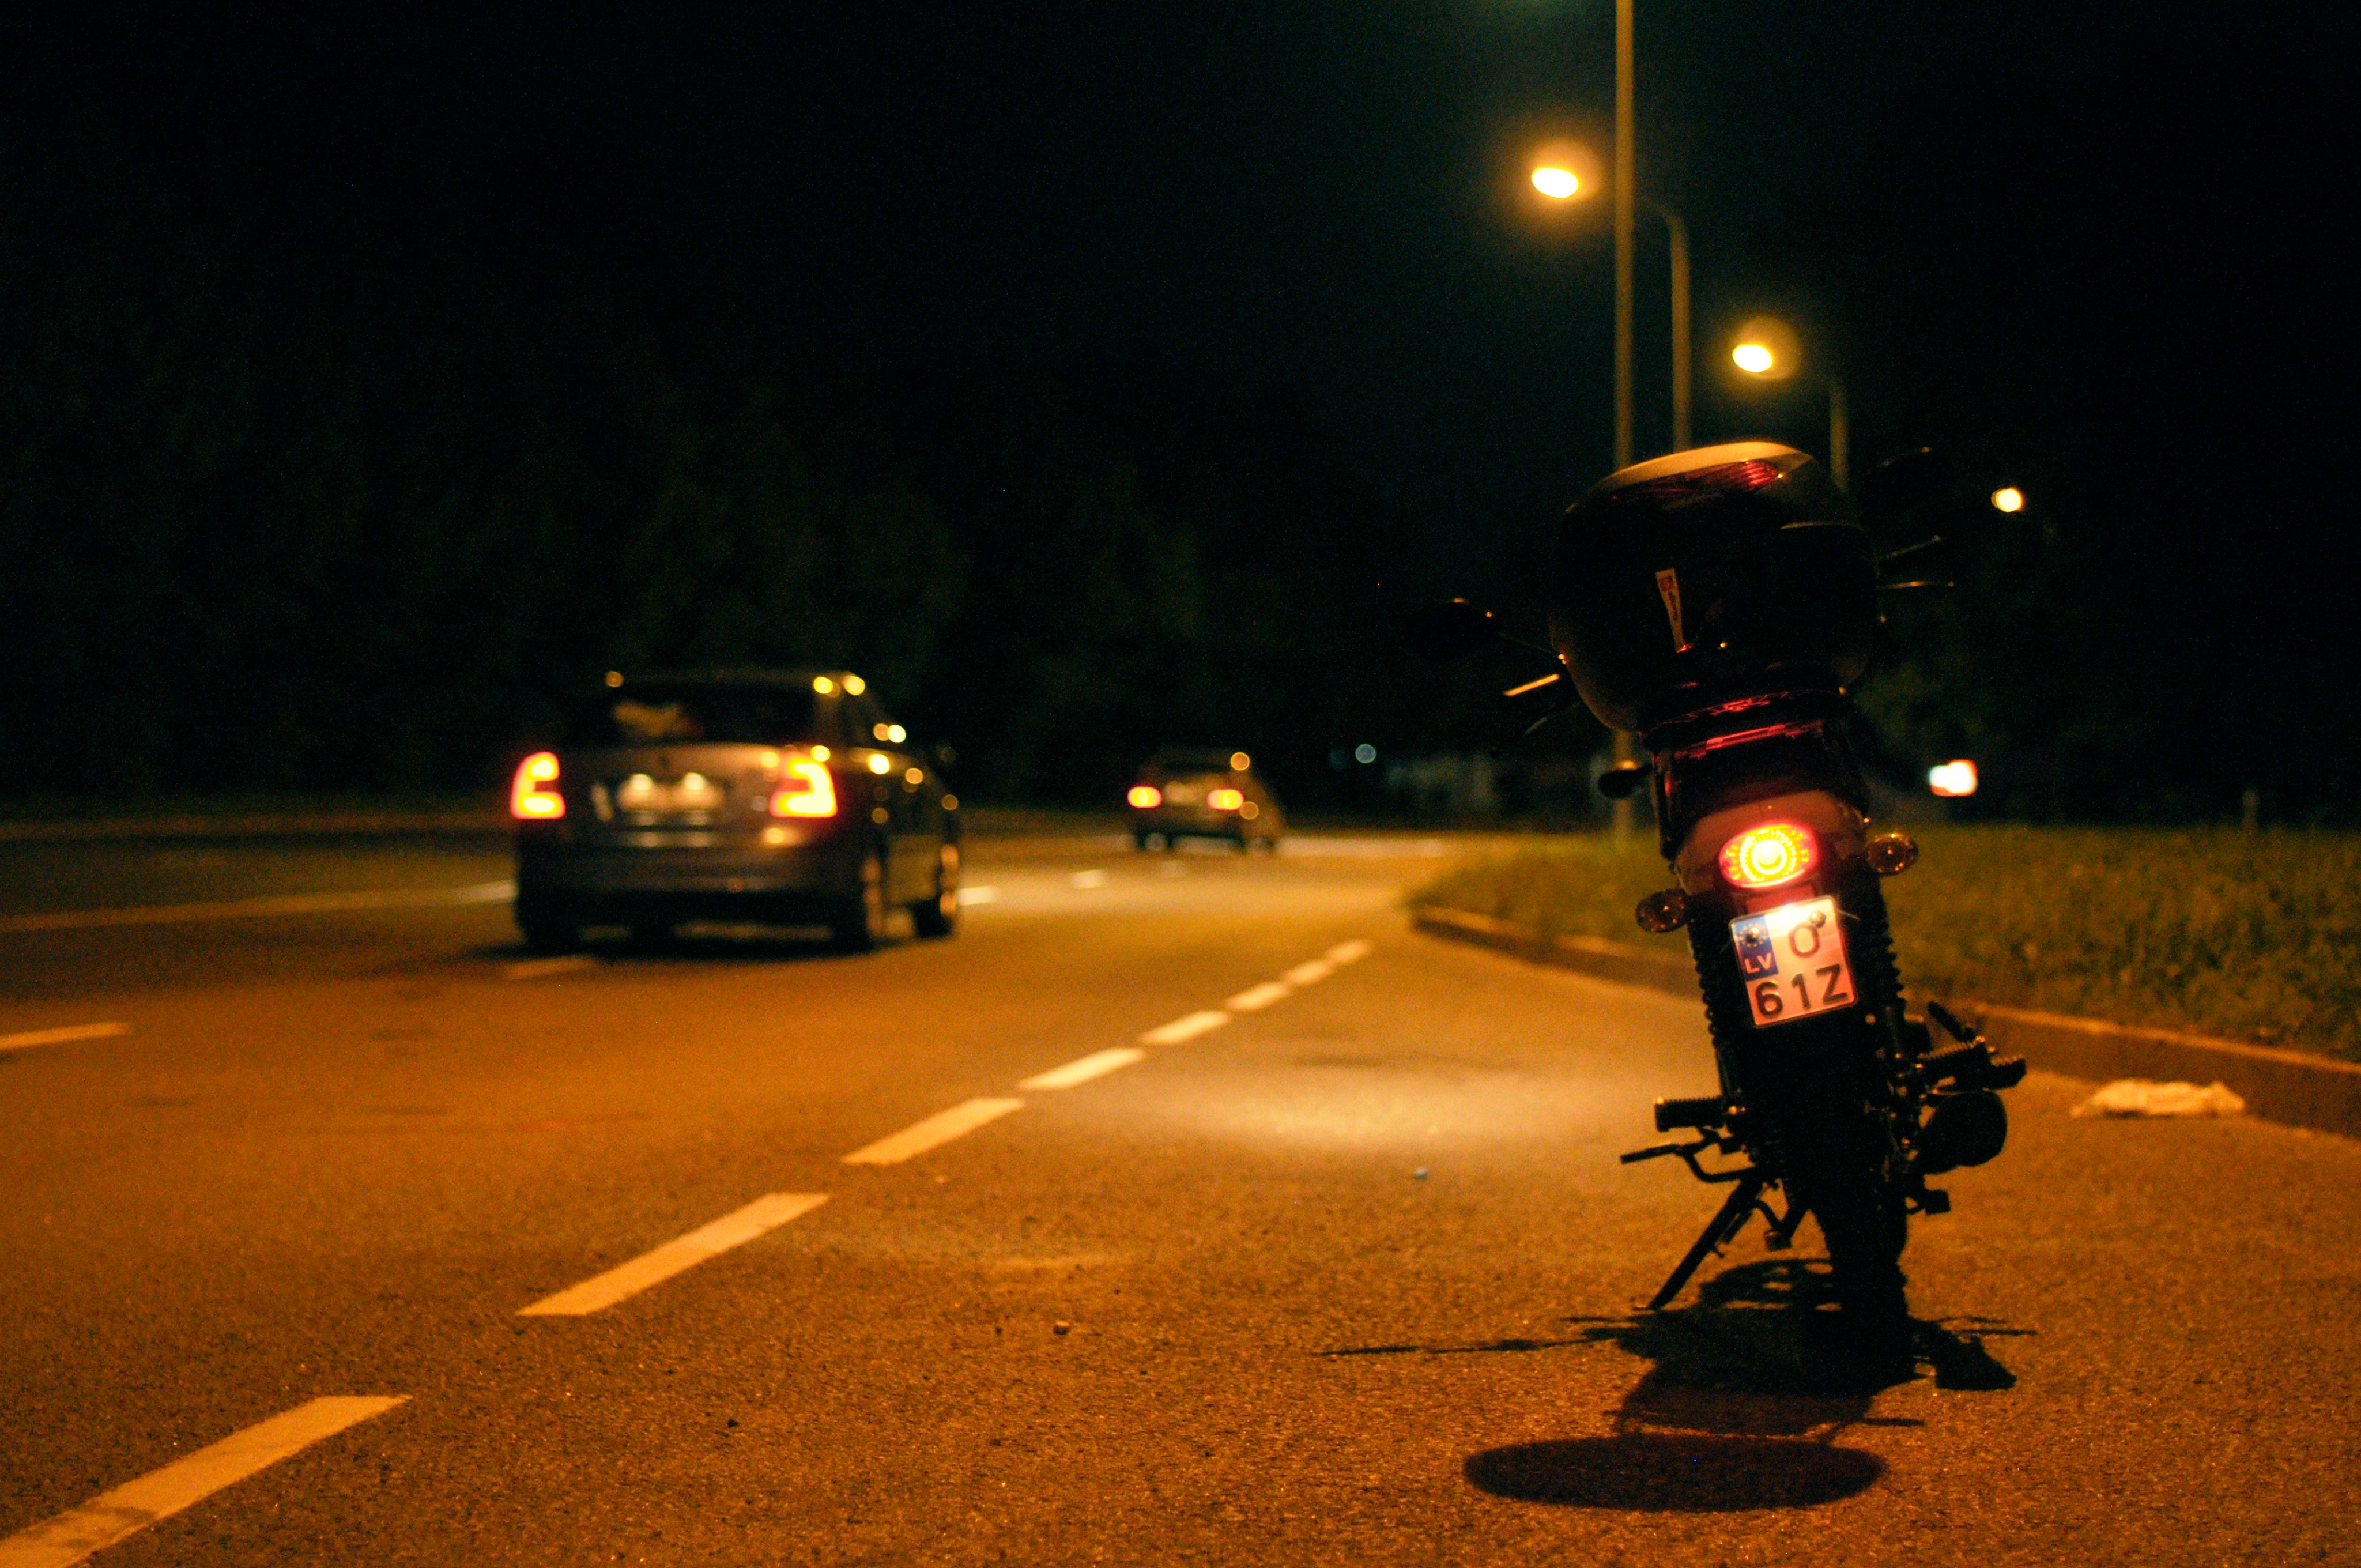bike: (1443, 392, 2039, 1309)
car: (497, 637, 976, 955), (1123, 752, 1278, 864)
